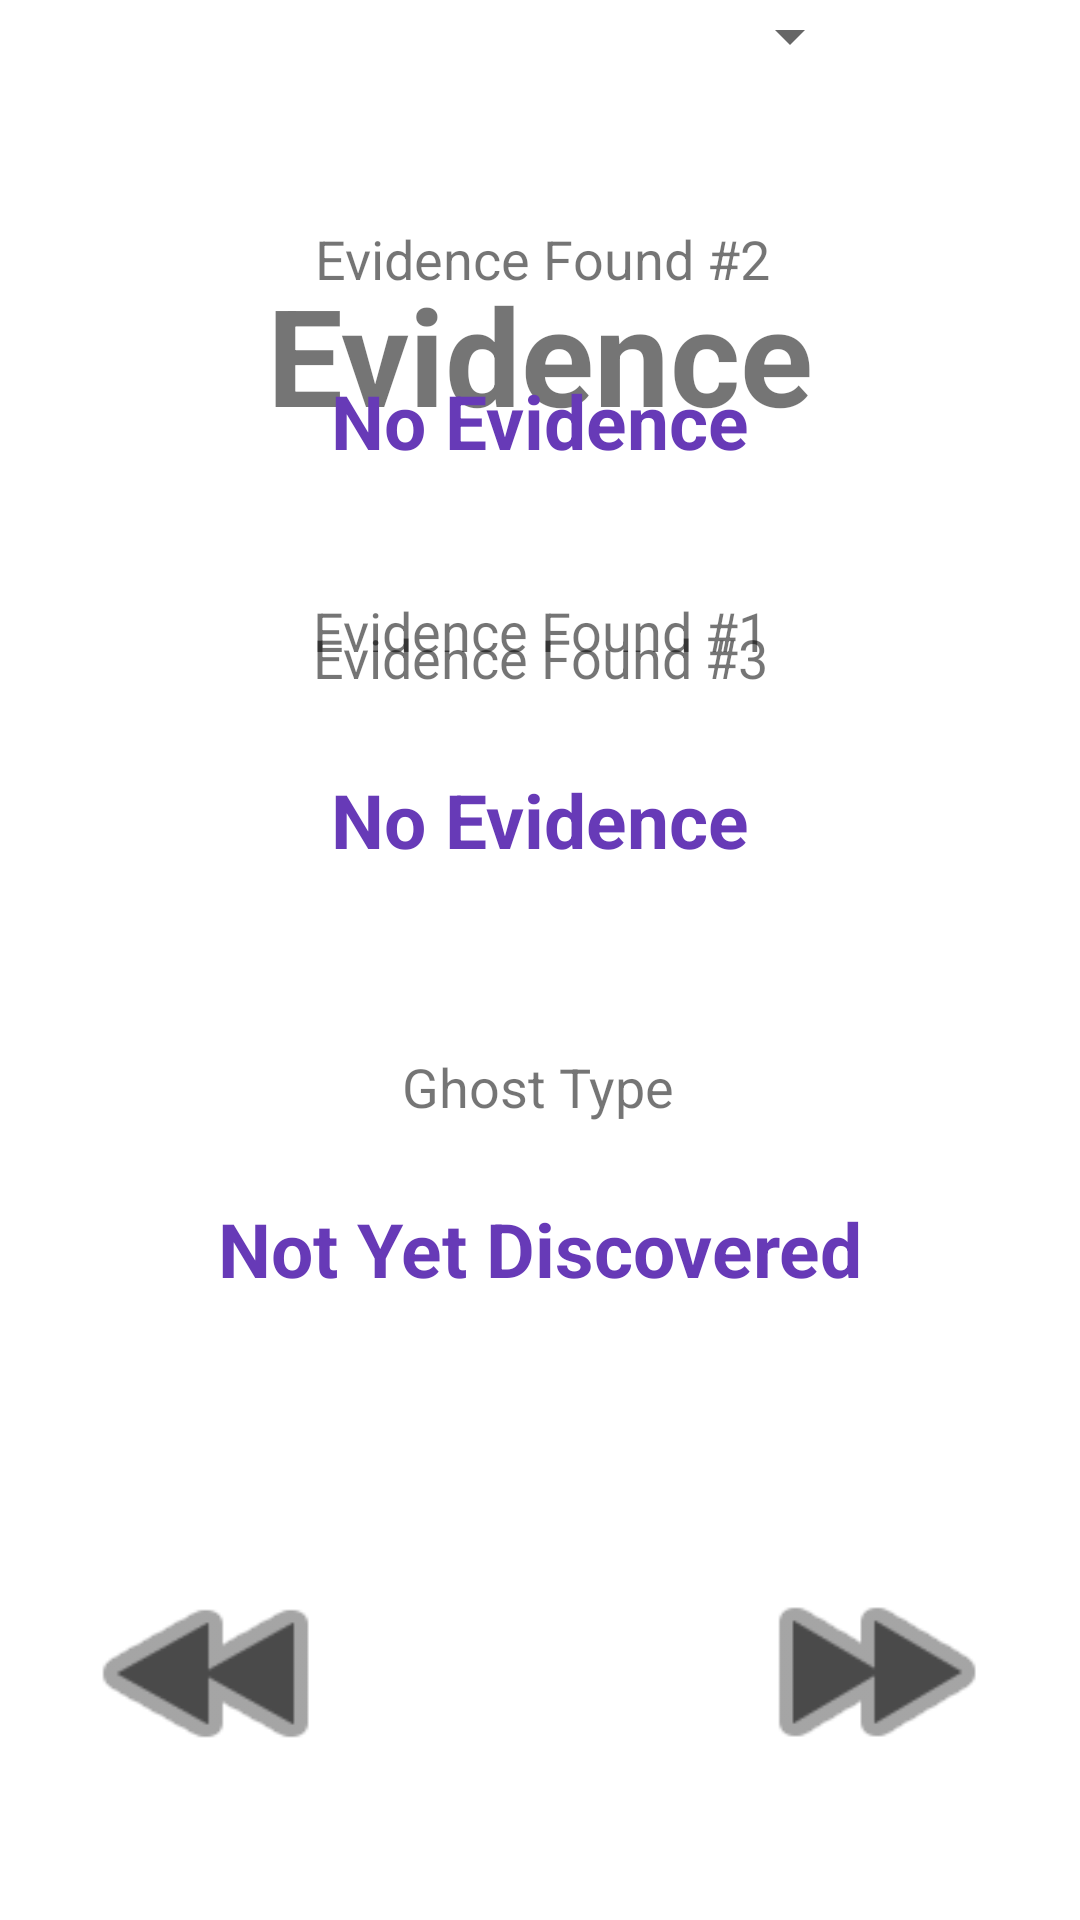

Screen size 1080w x 1920h. Icon name, then its box in pixels as bbox(x1, y1, x2, y2):
rew: bbox(103, 1610, 309, 1737)
